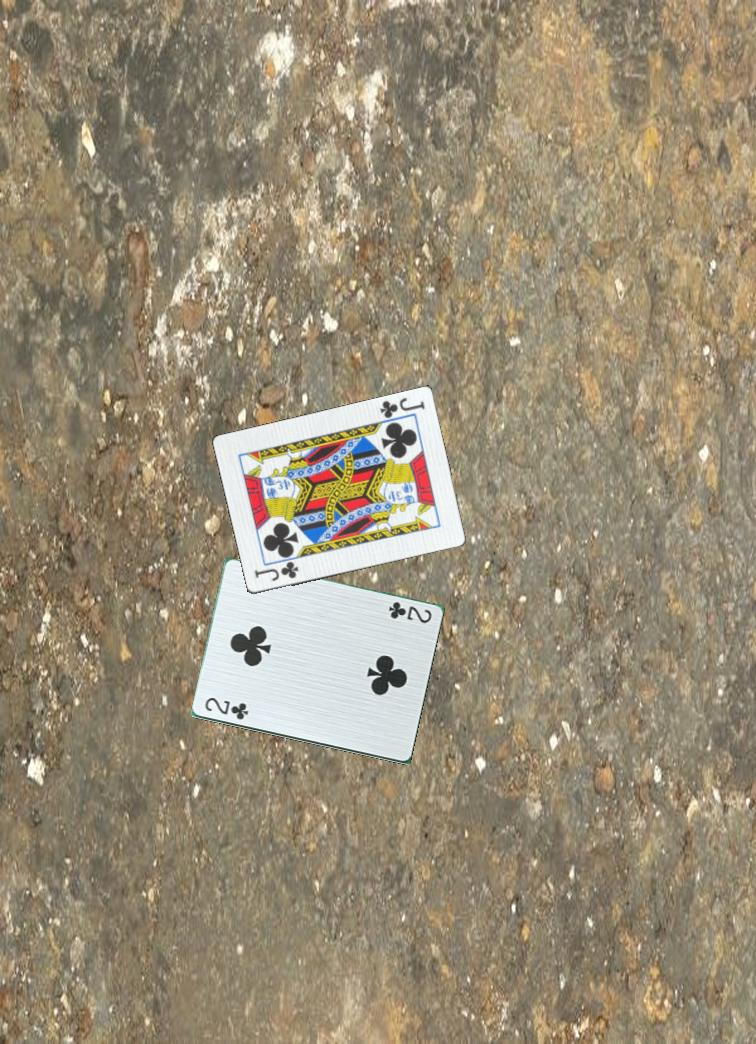2c: (201, 694, 251, 723), (385, 598, 434, 627)
jc: (376, 395, 428, 422), (251, 559, 301, 584)
